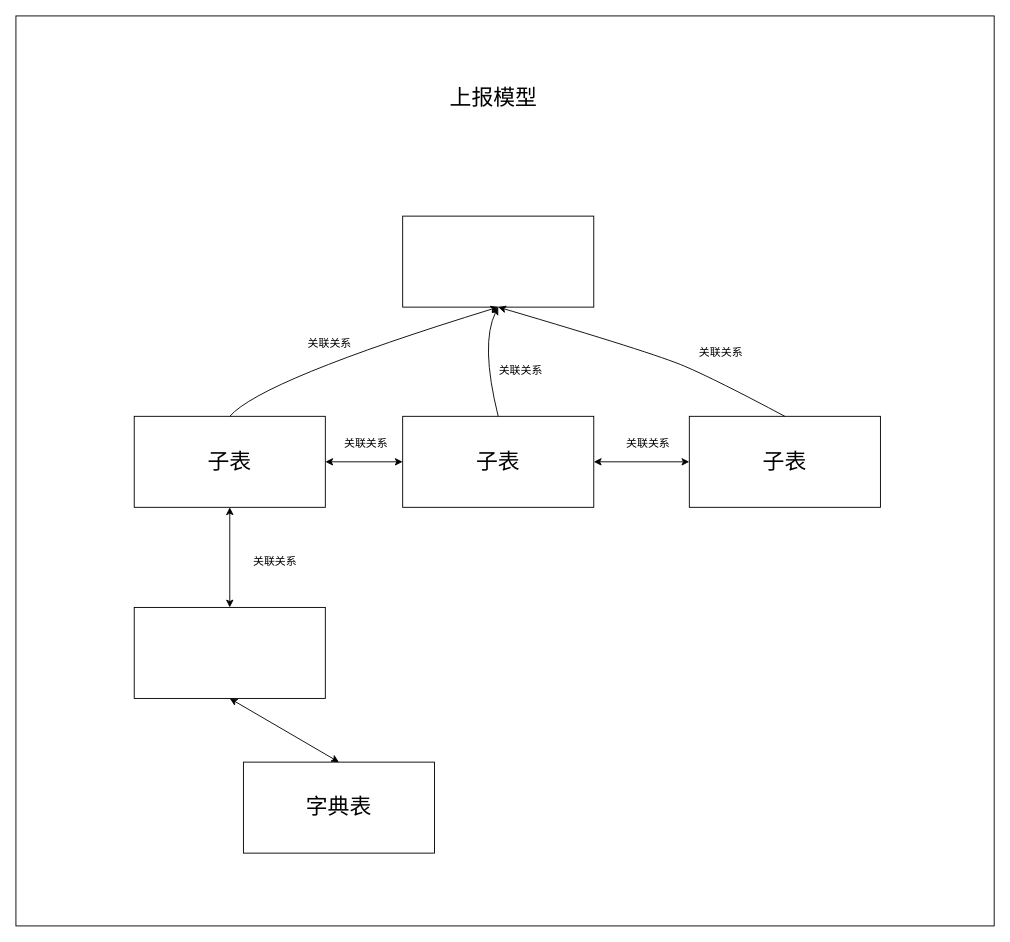
Image size: 1010x942. Some labels were removed from this diagram. The shapes that lost their labels are listed below. From the top down, each one's centre as x and y in pixels, then its label:
At point (498, 261): "主表".
At point (229, 652): "子表明细表".
